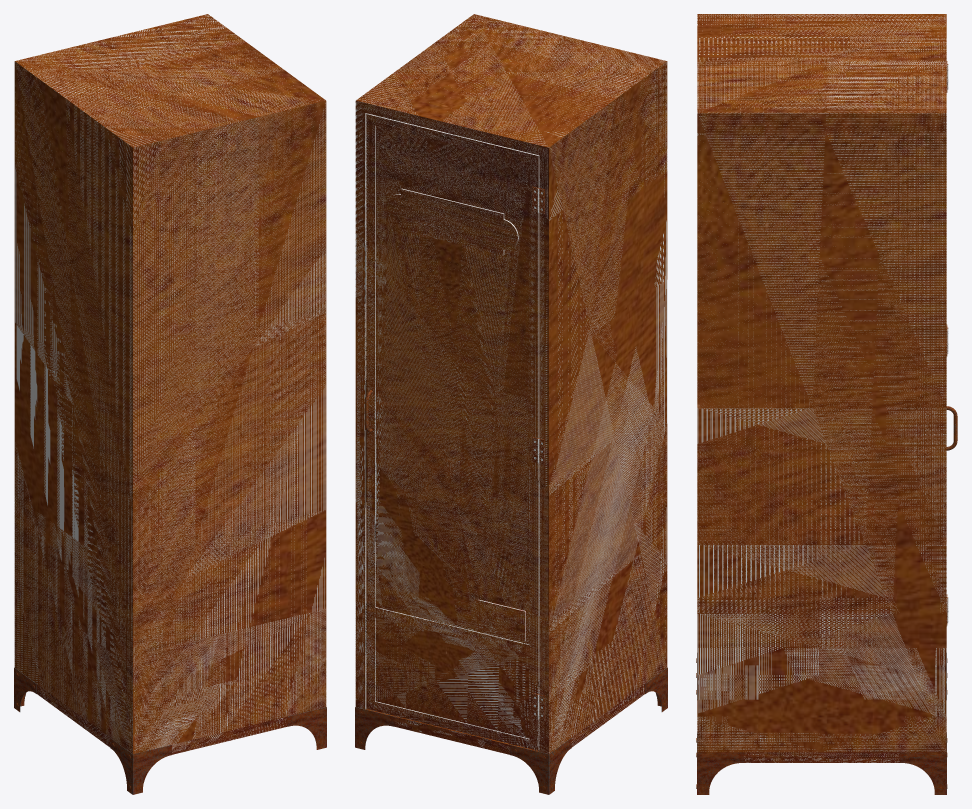
3 views of the same model, side by side, from view 1: azimuth 30°, elevation 25°; view 2: azimuth 150°, elevation 25°; view 3: azimuth 270°, elevation 25° (orthographic). The views are drawn at different scales.
Visible parts, largest first — view 1: mesh12_mesh12-geometry, mesh6_mesh6-geometry, mesh2_mesh2-geometry; view 2: mesh12_mesh12-geometry, mesh2_mesh2-geometry, mesh6_mesh6-geometry; view 3: mesh12_mesh12-geometry, mesh6_mesh6-geometry, mesh2_mesh2-geometry.
Part boxes in pixels (left/top/right/bottom): mesh12_mesh12-geometry: left=14, top=14, right=326, bottom=754; mesh6_mesh6-geometry: left=14, top=672, right=326, bottom=794; mesh2_mesh2-geometry: left=14, top=667, right=326, bottom=794; mesh12_mesh12-geometry: left=355, top=14, right=667, bottom=754; mesh2_mesh2-geometry: left=355, top=692, right=661, bottom=794; mesh6_mesh6-geometry: left=355, top=667, right=667, bottom=794; mesh12_mesh12-geometry: left=697, top=14, right=957, bottom=762; mesh6_mesh6-geometry: left=696, top=653, right=947, bottom=794; mesh2_mesh2-geometry: left=696, top=653, right=947, bottom=794.
Size of the model in its own units: 0.2852 by 0.9055 by 0.3143.
